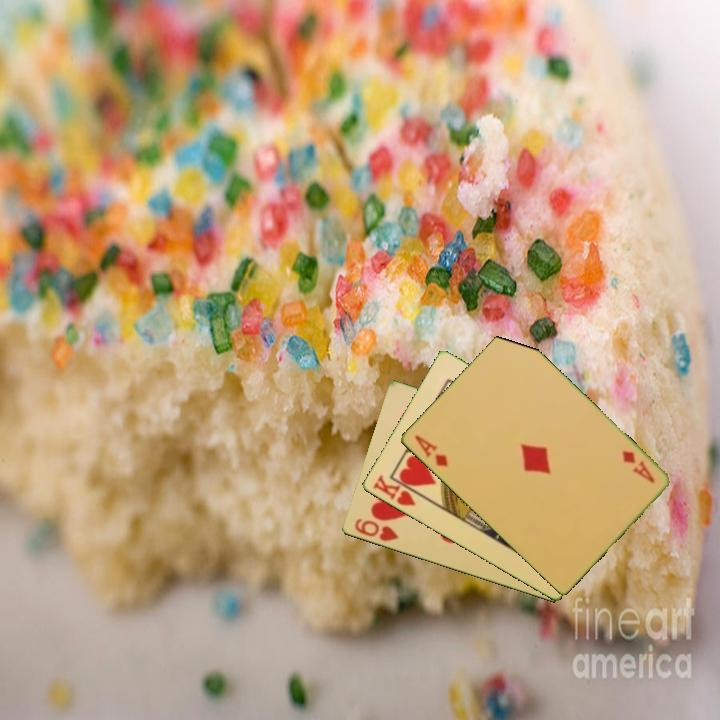6h: (351, 515, 401, 544)
Ad: (411, 431, 451, 470), (618, 447, 658, 486)
Kh: (369, 471, 426, 509)
